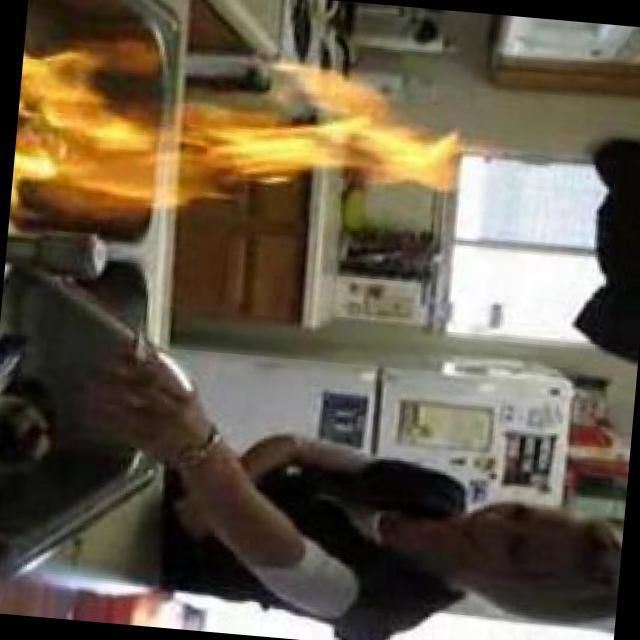Fire: (11, 34, 471, 236)
